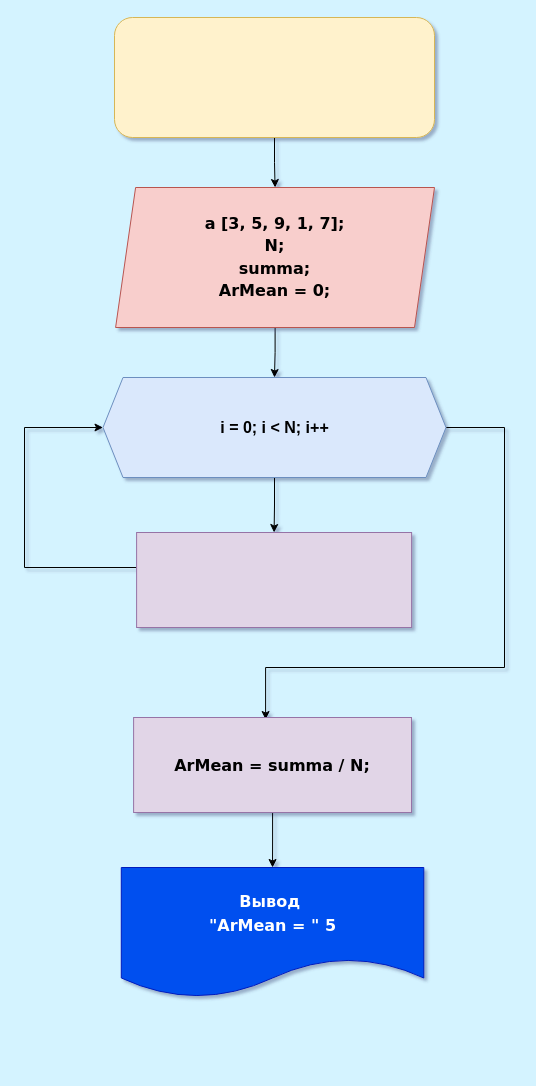
Image size: 536x1086. Some labels were removed from this diagram. The centre of each missing label's shape, as x and y in pixels:
"summa += a[i];" belongs at point 274,580.
"Найти среднее арифметическое среди всех элементов массива" belongs at point 274,77.
